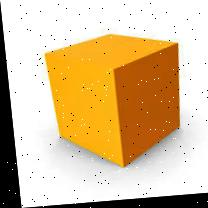cube: (44, 32, 184, 174)
